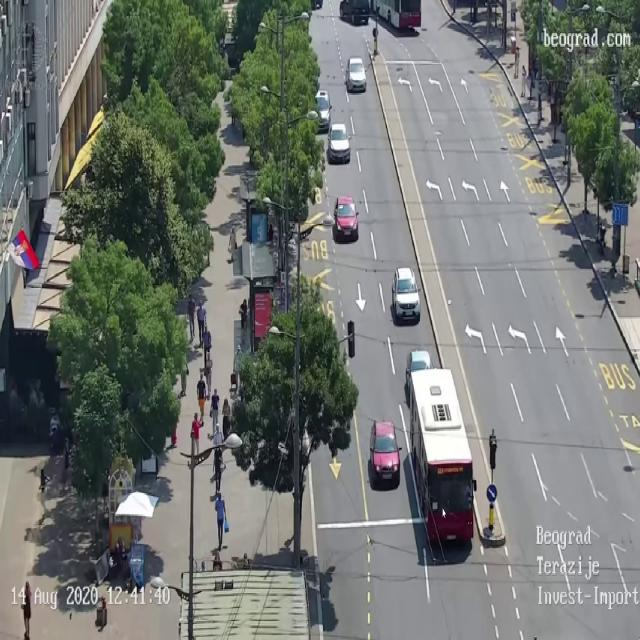bus: (406, 366, 476, 544), (374, 0, 421, 30)
car: (369, 420, 401, 485), (405, 350, 435, 408), (391, 266, 420, 324), (333, 195, 359, 242), (326, 122, 351, 164), (338, 0, 370, 25), (345, 57, 367, 92), (316, 95, 329, 129)
